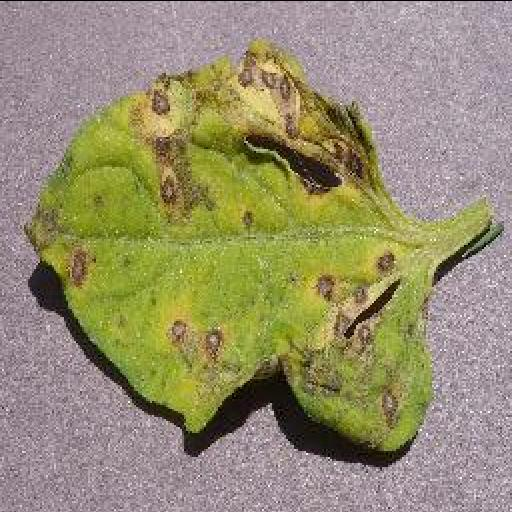disease_tomato: (24, 38, 430, 448)
